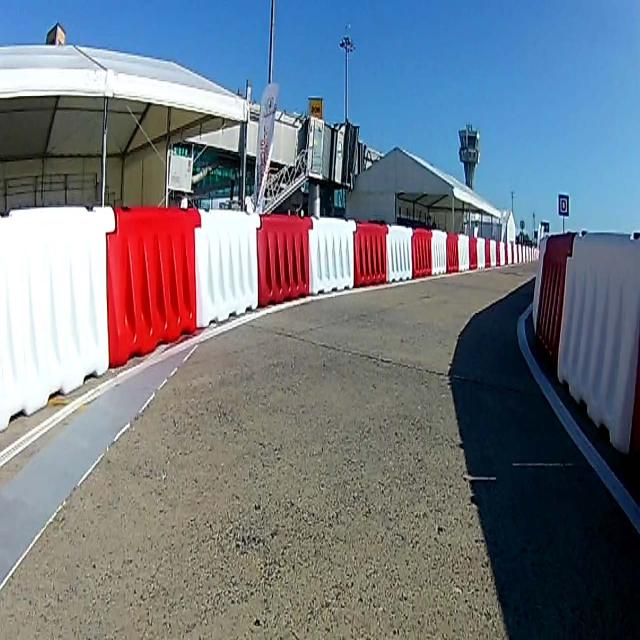durak: (558, 195, 570, 217)
